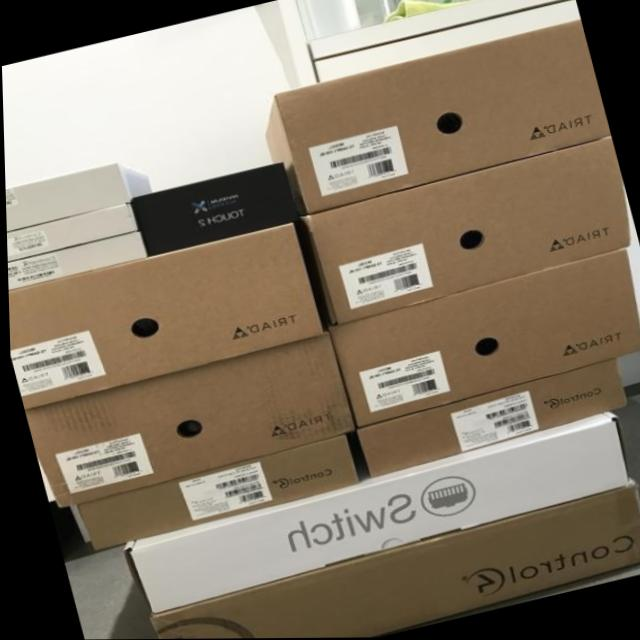box: (119, 412, 629, 613), (145, 485, 640, 639), (263, 18, 610, 216), (299, 136, 630, 326), (7, 222, 323, 407), (22, 336, 352, 508), (324, 249, 640, 423), (73, 434, 355, 551), (353, 359, 624, 478), (291, 0, 580, 88), (130, 161, 294, 256), (4, 164, 153, 231), (6, 231, 146, 289), (5, 203, 138, 260)
